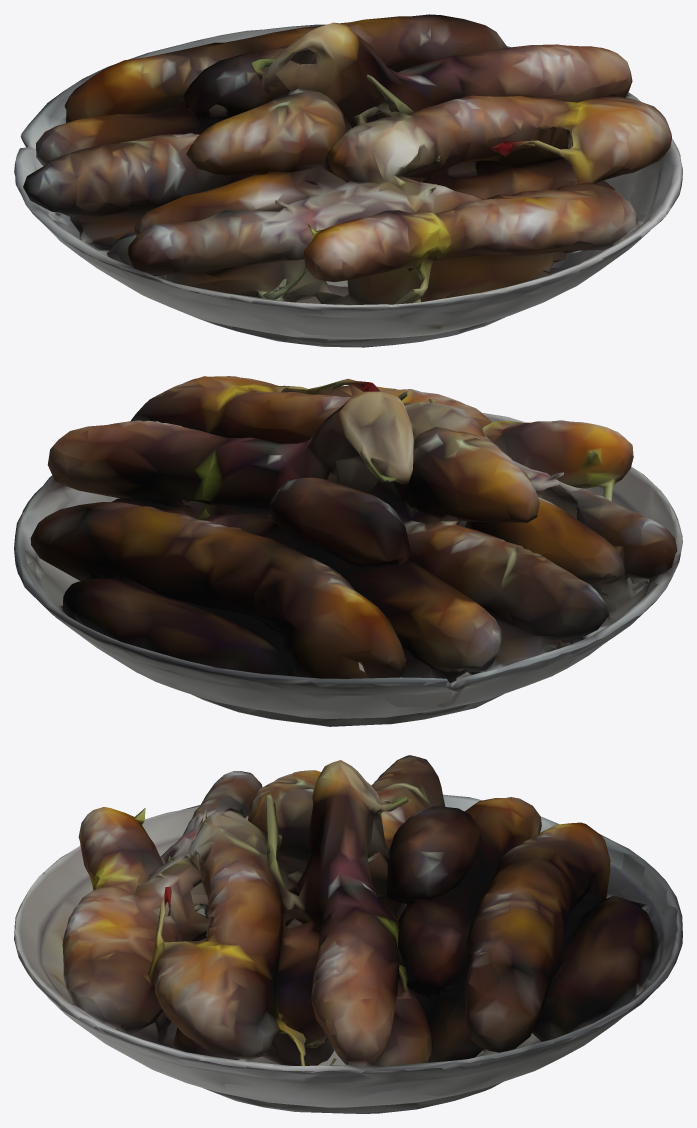
File: 0002_mask_003_plate_of_silkworm_pupae.glb
The picture shows the model from 3 angles, top to bottom: view 1: azimuth 30°, elevation 25°; view 2: azimuth 150°, elevation 25°; view 3: azimuth 270°, elevation 25°; orthographic projection.
Visible parts, largest first — view 1: mask_003_object; view 2: mask_003_object; view 3: mask_003_object.
Boxes of the visible parts, x1=… form: mask_003_object: x1=14, y1=14, x2=682, y2=347; mask_003_object: x1=14, y1=376, x2=682, y2=726; mask_003_object: x1=14, y1=755, x2=682, y2=1113.
Bounding box in the file's own units: 0.4339 × 0.181 × 0.4318.
